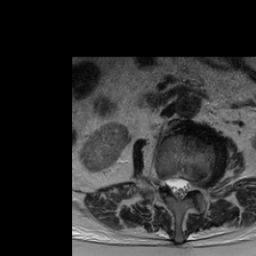CCS_normal: (175, 171, 182, 205)
LFS_normal: (192, 175, 200, 199)
LLS_normal: (182, 174, 191, 198)
RFS_normal: (158, 170, 166, 192)
RLS_normal: (166, 170, 175, 198)
